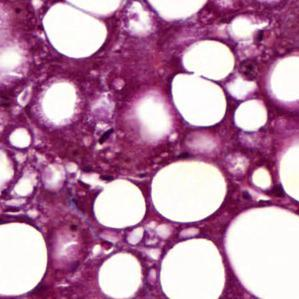steatosis: (150, 158, 227, 225), (159, 238, 225, 299), (0, 222, 48, 296)
